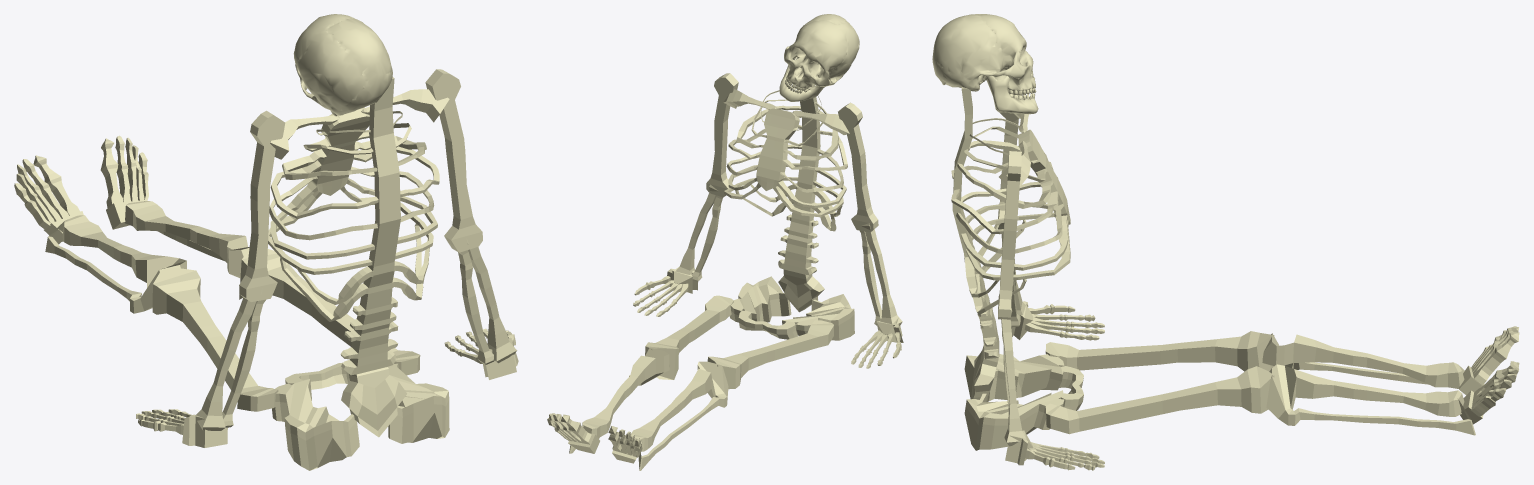
File: skeleton.obj
3 renders of one model, left to right at view 1: azimuth 30°, elevation 25°; view 2: azimuth 150°, elevation 25°; view 3: azimuth 270°, elevation 25°, orthographic. The views are drawn at different scales.
Parts seen in each view (by area): view 1: Cube.004_Cube.042, Cube.011_Cube.049, Cube.003_Cube.041, Cube.013_Cube.051, Cube.014_Cube.052, Cube.005_Cube.043, Cube.006_Cube.044, Cube.007_Cube.045, Cube.015_Cube.053, Cube.008_Cube.046, Cube_Cube.020, Cube.016_Cube.054 (+3 smaller); view 2: Cube.004_Cube.042, Cube.003_Cube.041, Cube.011_Cube.049, Cube.014_Cube.052, Cube.013_Cube.051, Cube.015_Cube.053, Cube.005_Cube.043, Cube.012_Cube.050, Cube.006_Cube.044, Cube.007_Cube.045, Cube.008_Cube.046, Cube.010_Cube.048 (+3 smaller); view 3: Cube.004_Cube.042, Cube.003_Cube.041, Cube.011_Cube.049, Cube.015_Cube.053, Cube.012_Cube.050, Cube.013_Cube.051, Cube.014_Cube.052, Cube.006_Cube.044, Cube.009_Cube.047, Cube.010_Cube.048, Cube.016_Cube.054, Cube_Cube.020 (+1 smaller).
Boxes of the visible parts, x1,y1,x2,y2 form: Cube.004_Cube.042: [268, 77, 449, 437]; Cube.011_Cube.049: [272, 362, 449, 470]; Cube.003_Cube.041: [293, 14, 392, 116]; Cube.013_Cube.051: [152, 267, 278, 411]; Cube.014_Cube.052: [45, 215, 186, 313]; Cube.005_Cube.043: [239, 110, 285, 301]; Cube.006_Cube.044: [425, 69, 482, 252]; Cube.007_Cube.045: [195, 288, 265, 430]; Cube.015_Cube.053: [125, 201, 249, 278]; Cube.008_Cube.046: [458, 238, 516, 364]; Cube_Cube.020: [100, 135, 148, 229]; Cube.016_Cube.054: [14, 155, 83, 241]; Cube.004_Cube.042: [723, 67, 849, 312]; Cube.003_Cube.041: [779, 14, 859, 101]; Cube.011_Cube.049: [729, 276, 854, 340]; Cube.014_Cube.052: [630, 361, 728, 470]; Cube.013_Cube.051: [707, 320, 833, 389]; Cube.015_Cube.053: [569, 348, 669, 453]; Cube.005_Cube.043: [838, 102, 878, 232]; Cube.012_Cube.050: [645, 295, 733, 379]; Cube.006_Cube.044: [706, 73, 738, 197]; Cube.007_Cube.045: [860, 223, 902, 325]; Cube.008_Cube.046: [675, 184, 722, 281]; Cube.010_Cube.048: [633, 267, 698, 316]; Cube.004_Cube.042: [951, 87, 1070, 402]; Cube.003_Cube.041: [932, 14, 1038, 114]; Cube.011_Cube.049: [964, 354, 1083, 450]; Cube.015_Cube.053: [1266, 364, 1475, 435]; Cube.012_Cube.050: [1045, 366, 1274, 434]; Cube.013_Cube.051: [1045, 331, 1274, 371]; Cube.014_Cube.052: [1262, 333, 1464, 388]; Cube.006_Cube.044: [998, 151, 1021, 319]; Cube.009_Cube.047: [1011, 301, 1104, 340]; Cube.010_Cube.048: [1005, 430, 1104, 470]; Cube.016_Cube.054: [1459, 326, 1519, 395]; Cube_Cube.020: [1461, 361, 1519, 424].
Bounding box in the file's own units: 1.51 × 1.72 × 2.35.
Materials: 1 (1 with a texture image).
